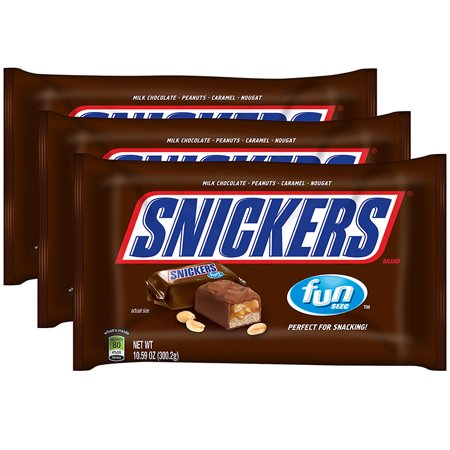snickers: (129, 197, 392, 256)
